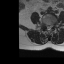CCS_normal: (48, 23, 50, 31)
LFS_severe_stenosis: (52, 23, 54, 29)
LLS_normal: (50, 23, 52, 29)
RFS_stenosis: (44, 22, 46, 28)
RLS_normal: (46, 23, 48, 30)
